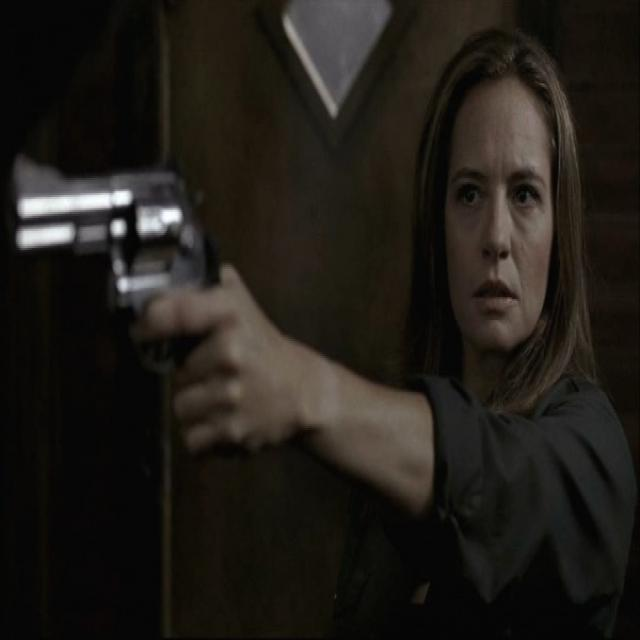weapons: (2, 126, 228, 427)
